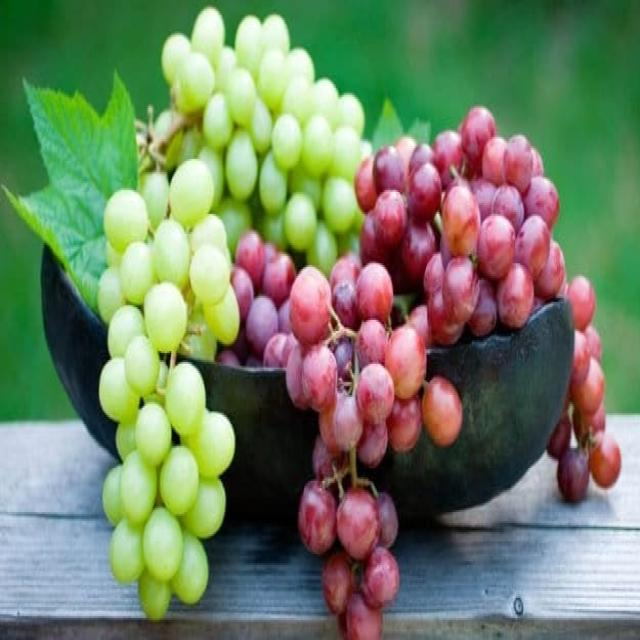grape: (97, 7, 618, 635), (98, 159, 237, 616), (308, 172, 364, 254), (247, 192, 305, 267)
